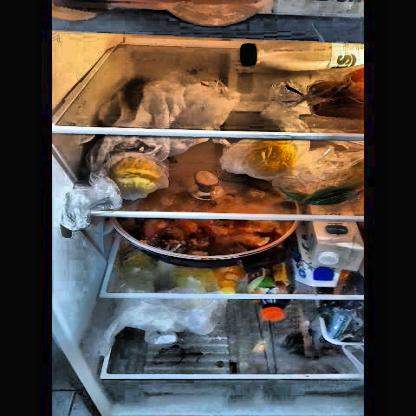broccoli: (318, 302, 363, 342)
carrot: (308, 80, 362, 117)
green_chillies: (273, 178, 363, 205)
lemon: (111, 156, 164, 196), (250, 139, 297, 175)
milk: (296, 222, 362, 286)
